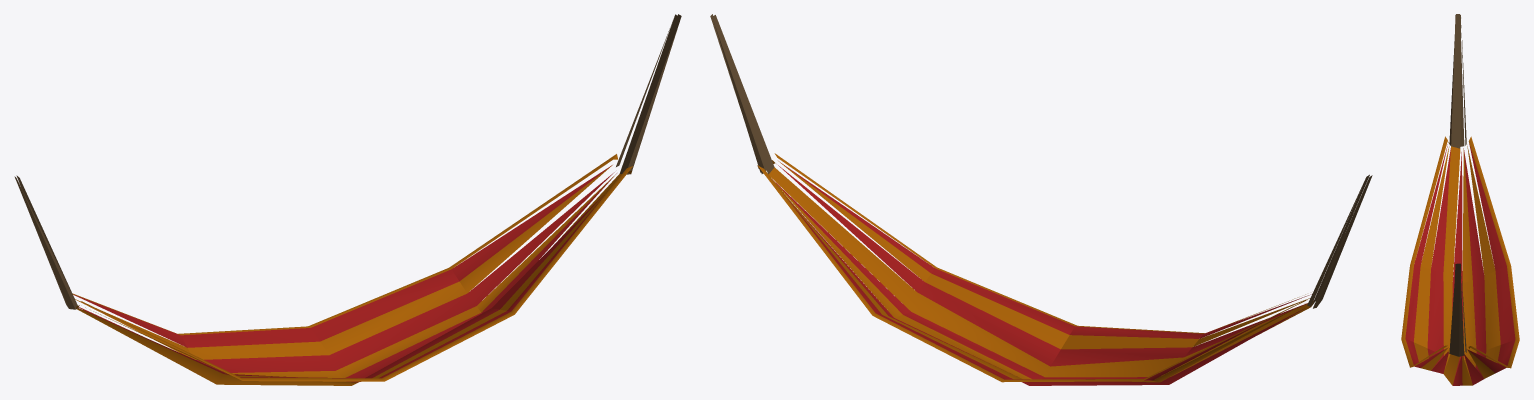
Rendered from hamak.fbx.
3 views of the same model, side by side, from view 1: azimuth 30°, elevation 25°; view 2: azimuth 150°, elevation 25°; view 3: azimuth 270°, elevation 25° (orthographic). The views are drawn at different scales.
Visible parts, largest first — view 1: node-0; view 2: node-0; view 3: node-0.
Boxes of the visible parts, x1=… form: node-0: x1=14, y1=14, x2=681, y2=385; node-0: x1=710, y1=14, x2=1372, y2=385; node-0: x1=1401, y1=14, x2=1519, y2=385.
Bounding box in the file's own units: 461 × 190 × 92.12.
